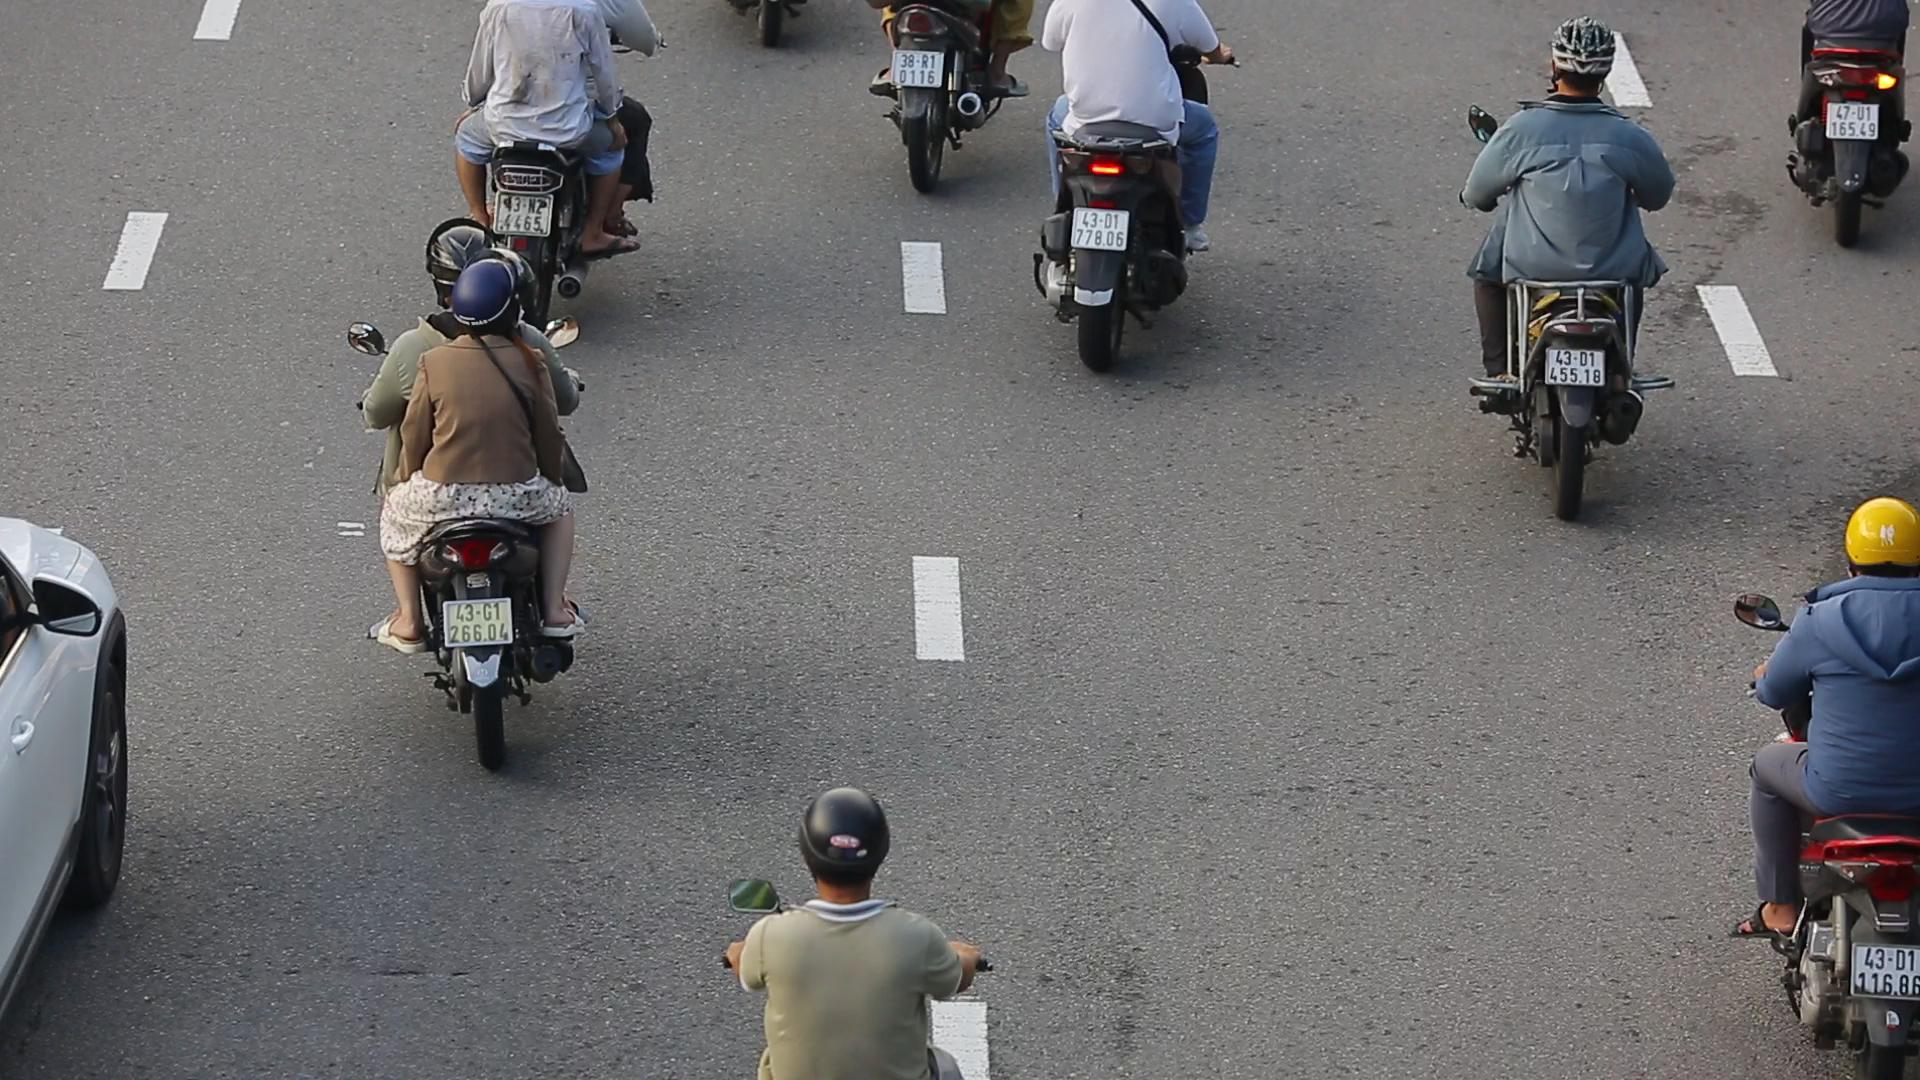motobike: (335, 212, 596, 789), (1460, 0, 1691, 530)
